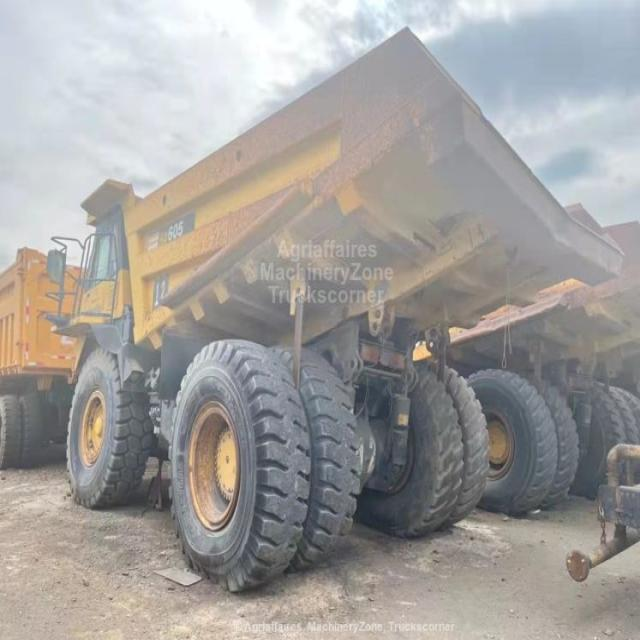dump_truck: (78, 42, 616, 566), (496, 309, 640, 504)
